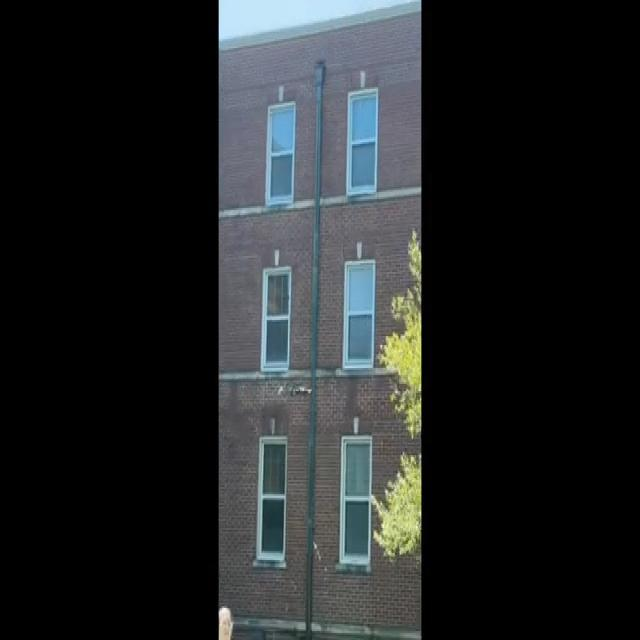drone: (280, 376, 316, 404)
